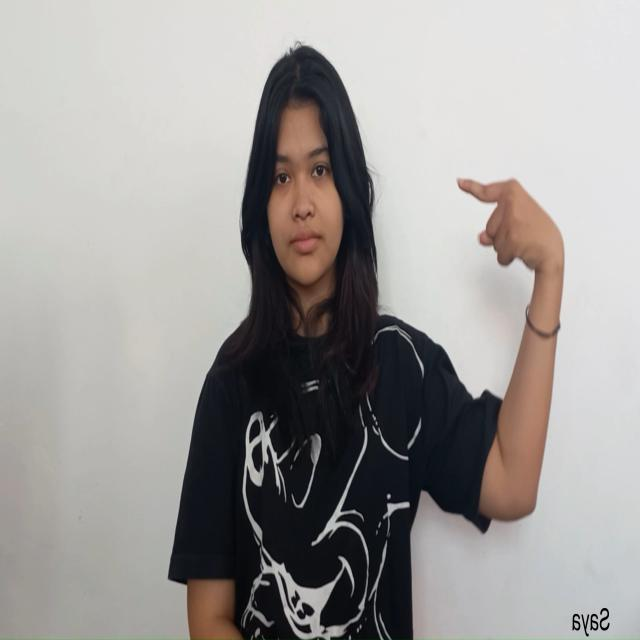Saya -BISINDO-: (453, 169, 569, 304)
